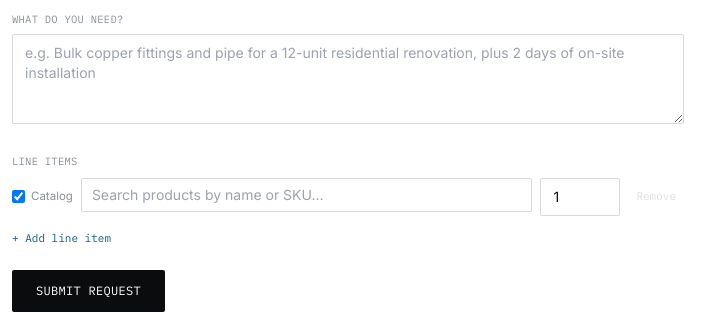
QuoteRequestForm › unchecking "Catalog" on a row swaps the product search for a free-text description input
The image size is (701, 329).
Expected: the field with placeholder "Search products by name or SKU…" is shown, x1=81 y1=178 x2=532 y2=212
Click the checkbox at x=18, y=196, box x1=12 y1=190 x2=25 y2=203
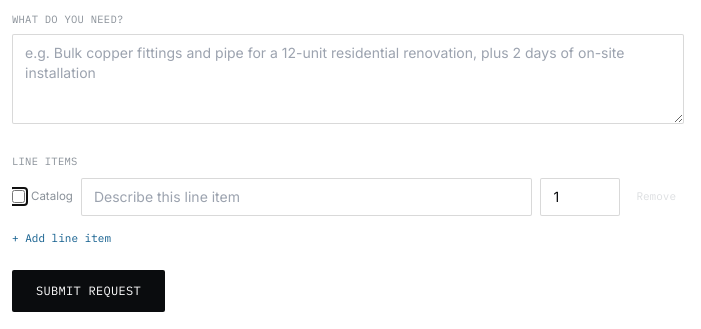
Expected: the field with placeholder "search products" is not shown
Expected: the field with placeholder "Describe this line item" is shown, x1=81 y1=178 x2=532 y2=216
